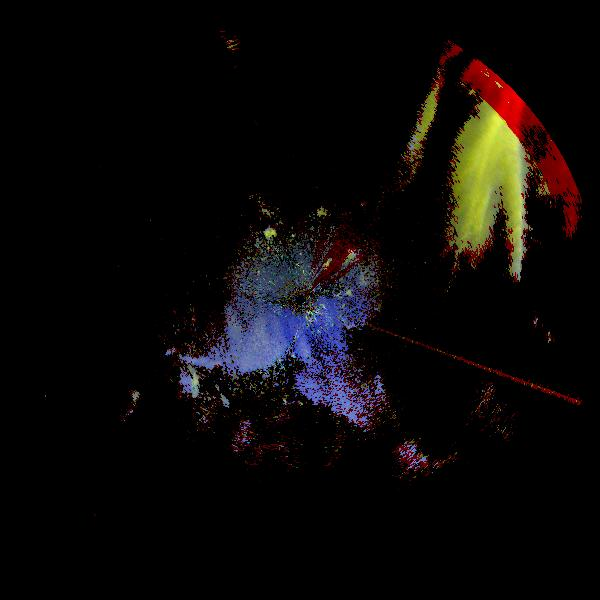roost: (84, 367, 147, 430)
